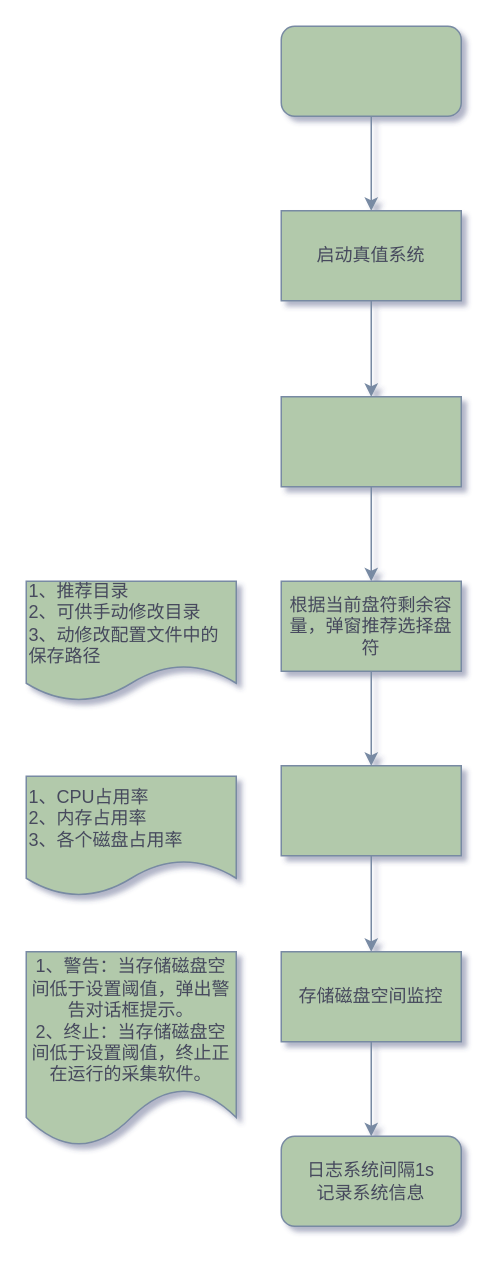
Image size: 497x1262. Some labels were removed from this diagram. Here are the shapes that lost their labels. From the top down, the box of each, then its label:
(280, 25, 461, 116): 开始
(280, 395, 461, 487): 获取当前所有盘符、并统计大小
(280, 764, 461, 856): 窗口可实时显示系统信息
